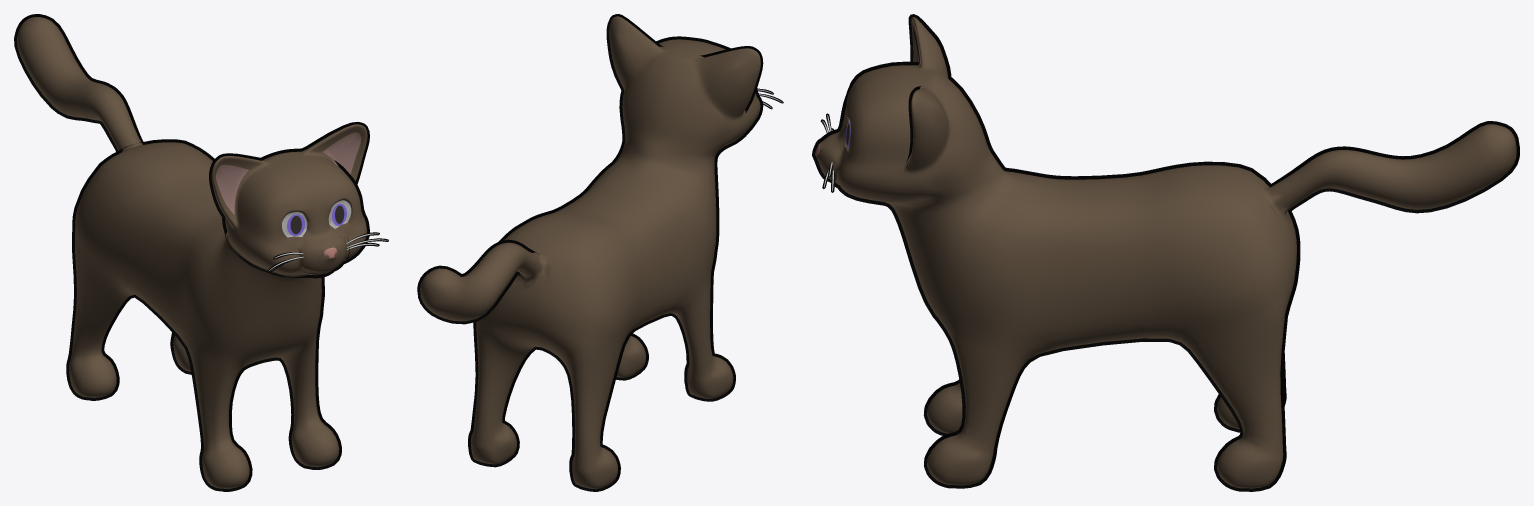
File: cat.glb
3 renders of one model, left to right at view 1: azimuth 30°, elevation 25°; view 2: azimuth 150°, elevation 25°; view 3: azimuth 270°, elevation 25°, orthographic. The views are drawn at different scales.
Parts seen in each view (by area): view 1: Cube.001, Cube.007, Cube.011; view 2: Cube.001, Cube.007; view 3: Cube.001, Cube.007.
Boxes of the visible parts, <box> form: Cube.001: <box>17,17,367,488</box>; Cube.007: <box>14,14,369,491</box>; Cube.011: <box>268,232,388,272</box>; Cube.001: <box>420,16,760,489</box>; Cube.007: <box>417,14,763,491</box>; Cube.001: <box>815,17,1516,488</box>; Cube.007: <box>812,14,1519,491</box>.
Bounding box in the file's own units: 0.2323 × 0.486 × 0.774.
